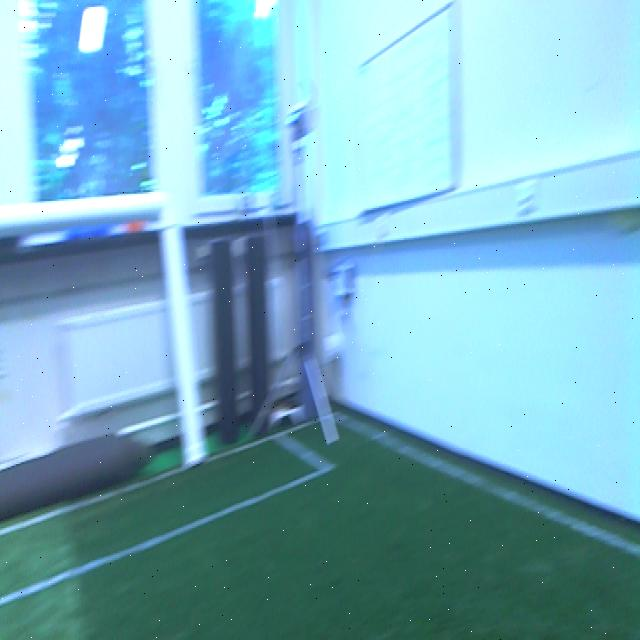goalpost: (160, 192, 198, 460)
